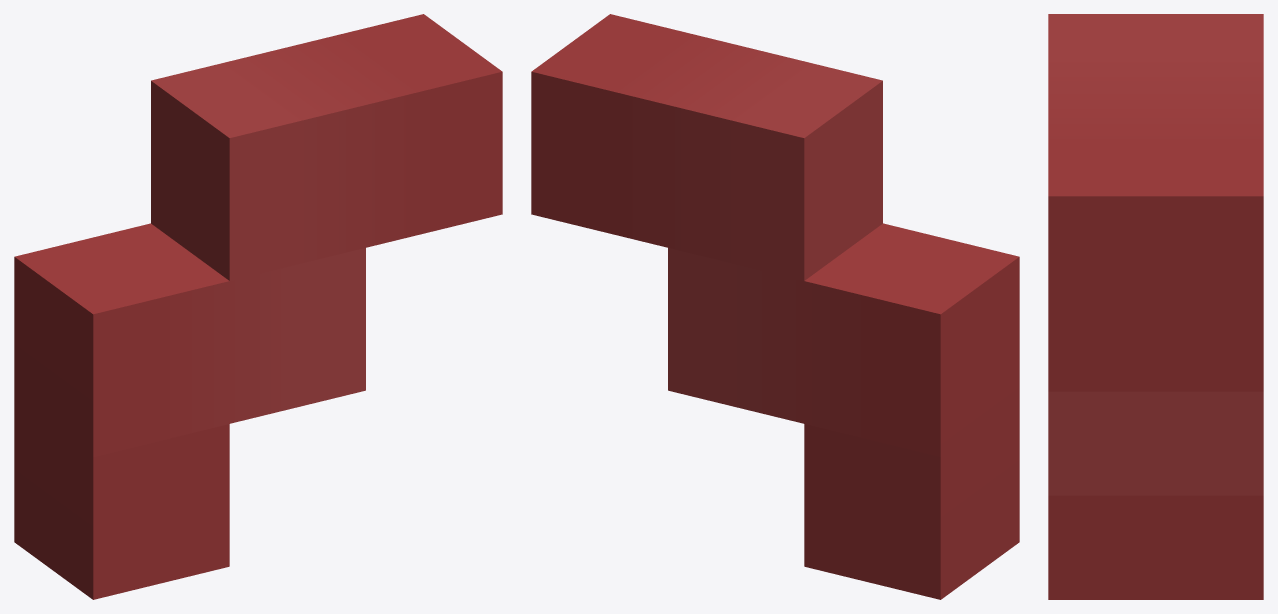
File: Altar_BloodMeter_2.fbx
3 views of the same model, side by side, from view 1: azimuth 30°, elevation 25°; view 2: azimuth 150°, elevation 25°; view 3: azimuth 270°, elevation 25° (orthographic). The views are drawn at different scales.
Visible parts, largest first — view 1: Altar_BloodMeter_2; view 2: Altar_BloodMeter_2; view 3: Altar_BloodMeter_2.
Boxes of the visible parts, <box> form: Altar_BloodMeter_2: <box>14,14,502,599</box>; Altar_BloodMeter_2: <box>531,14,1019,599</box>; Altar_BloodMeter_2: <box>1048,14,1263,599</box>.
Size of the model in its own units: 3 by 3 by 1.
Materials: 1 (1 with a texture image).
